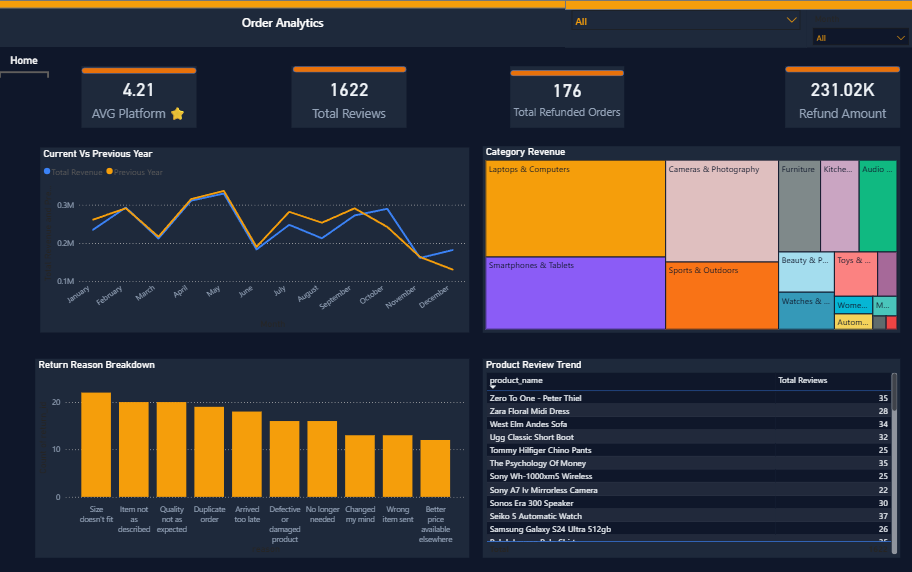

The page's visual inventory and layout, read from the dashboard file:
{"tool":"powerbi","page":{"name":"Orders","canvas":[1467,920],"ordinal":2},"visuals":[{"type":"card","fields":{"Values":["Avg(public reviews_clean.rating)"]},"box":[132,106,184,98],"z":0},{"type":"shape","box":[24.7,37,182.5,11],"z":1000},{"type":"card","fields":{"Values":["CountNonNull(public reviews_clean.review_id)"]},"box":[468,106,184,98],"z":2000},{"type":"card","fields":{"Values":["Bridge Payment.Total Refunds"]},"box":[818,106,182,98],"z":3000},{"type":"card","fields":{"Values":["Sum(public returns_clean.refund_amount)"]},"box":[1258,106,184,98],"z":4000},{"type":"lineClusteredColumnComboChart","title":"Return Reason Breakdown","fields":{"Category":["public returns_clean.reason"],"Y":["CountNonNull(public returns_clean.return_id)"]},"box":[58,574,694,318],"z":5000},{"type":"textbox","box":[0,0,907.4,75.5],"z":6000},{"type":"tableEx","title":"Product Review Trend","fields":{"Values":["public products_clean.product_name","All_Measures.Total Reviews"]},"box":[774,574,668,318],"z":7000},{"type":"lineChart","title":"Current Vs Previous Year","fields":{"Y":["public categories_clean.Total Revenue","Bridge Payment.Previous Year"],"Category":["Calendar.Date.Variation.Date Hierarchy.Month"]},"box":[66,236,686,296],"z":8000},{"type":"treemap","title":"Category Revenue","fields":{"Group":["public categories_clean.category_name"],"Values":["All_Measures.Total Revenue"]},"box":[774,234,668,298],"z":9000},{"type":"slicer","fields":{"Values":["public categories_clean.category_name"]},"box":[906,6,386,70],"z":10000},{"type":"actionButton","title":"Home","box":[0,86,80,38],"z":11000},{"type":"shape","box":[0,0,906.9,13.3],"z":12000},{"type":"shape","box":[132,108,184,10],"z":13000},{"type":"shape","box":[470,106,182,10],"z":14000},{"type":"shape","box":[818,112,182,10],"z":15000},{"type":"shape","box":[1258,106,184,10],"z":16000},{"type":"slicer","fields":{"Values":["Calendar.Date.Variation.Date Hierarchy.Month"]},"box":[1292,16,174,60],"z":17000},{"type":"shape","box":[906,0,560,16],"z":17001}]}

Visuals, with their boxes in screenshot pixels (x1, y1, x2, y2), scaled from the page's 1467x920 canvas onto the 912x572 screenshot:
card - Avg(public reviews_clean.rating): 82, 66, 196, 127
shape: 15, 23, 129, 30
card - CountNonNull(public reviews_clean.review_id): 291, 66, 405, 127
card - Bridge Payment.Total Refunds: 509, 66, 622, 127
card - Sum(public returns_clean.refund_amount): 782, 66, 896, 127
"Return Reason Breakdown" lineClusteredColumnComboChart: 36, 357, 468, 555
textbox: 0, 0, 564, 47
"Product Review Trend" tableEx: 481, 357, 896, 555
"Current Vs Previous Year" lineChart: 41, 147, 468, 331
"Category Revenue" treemap: 481, 145, 896, 331
slicer - public categories_clean.category_name: 563, 4, 803, 47
"Home" actionButton: 0, 53, 50, 77
shape: 0, 0, 564, 8
shape: 82, 67, 196, 73
shape: 292, 66, 405, 72
shape: 509, 70, 622, 76
shape: 782, 66, 896, 72
slicer - Calendar.Date.Variation.Date Hierarchy.Month: 803, 10, 911, 47
shape: 563, 0, 911, 10
